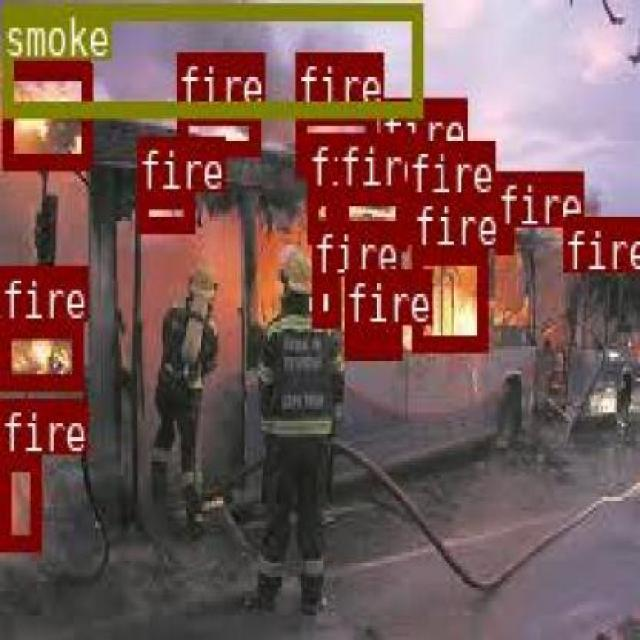Fire: (2, 59, 90, 167), (410, 246, 484, 348), (293, 106, 375, 174), (0, 320, 82, 386), (176, 106, 256, 152), (338, 190, 404, 244), (0, 451, 37, 546), (406, 196, 483, 238), (137, 192, 191, 231), (342, 322, 400, 356), (561, 217, 607, 250), (306, 186, 334, 240), (310, 274, 336, 322), (378, 151, 394, 184), (494, 225, 511, 250)
Smoke: (1, 1, 420, 116)
